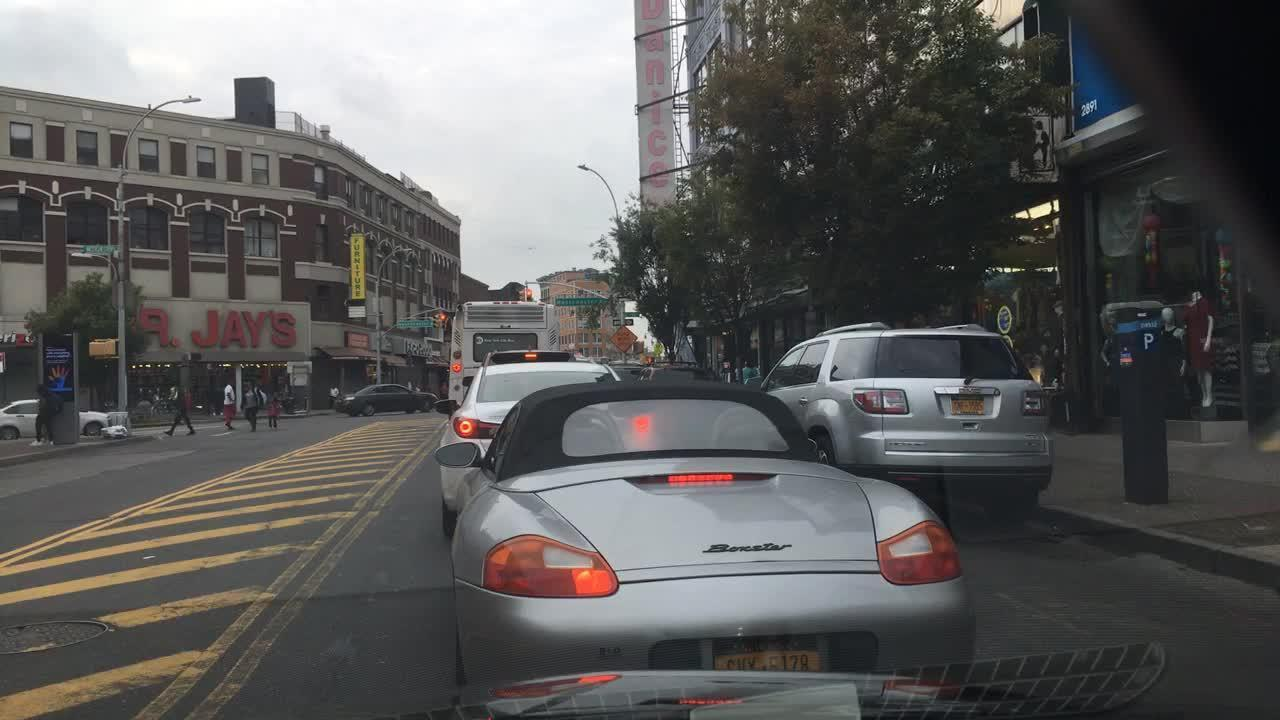GMC: (949, 380, 985, 398)
